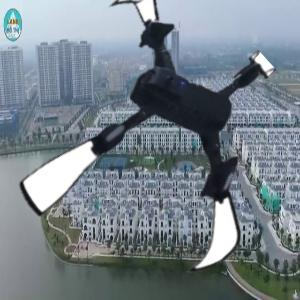drone: (17, 4, 295, 282)
